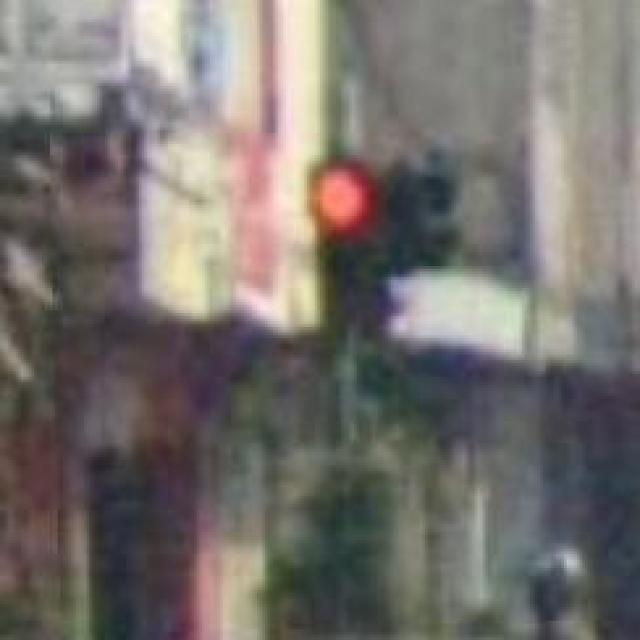red_light: (310, 153, 386, 344)
